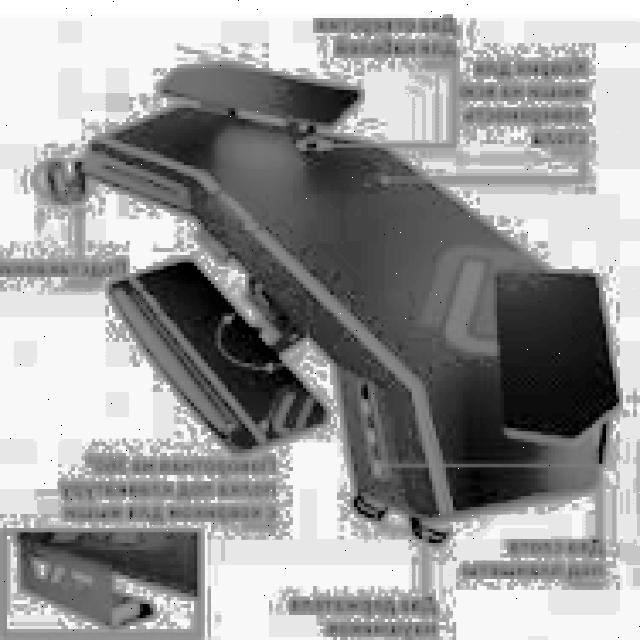table: (48, 57, 623, 543)
